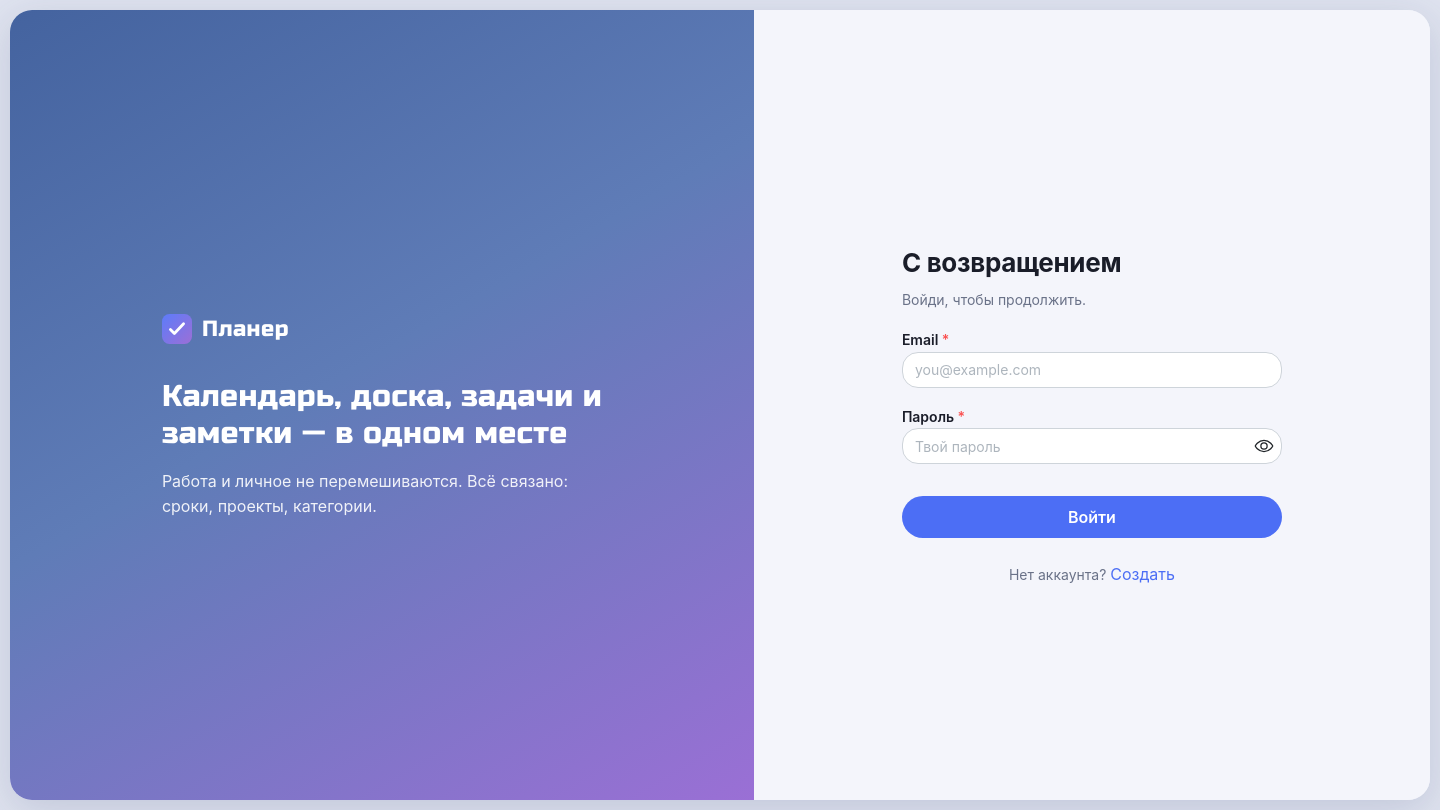
Test case: AuthScreen › сетевая ошибка — общий текст
Type "a@e.com" into the field labelled "Email *" at {"x": 1092, "y": 370}, box x1=902 y1=352 x2=1282 y2=388
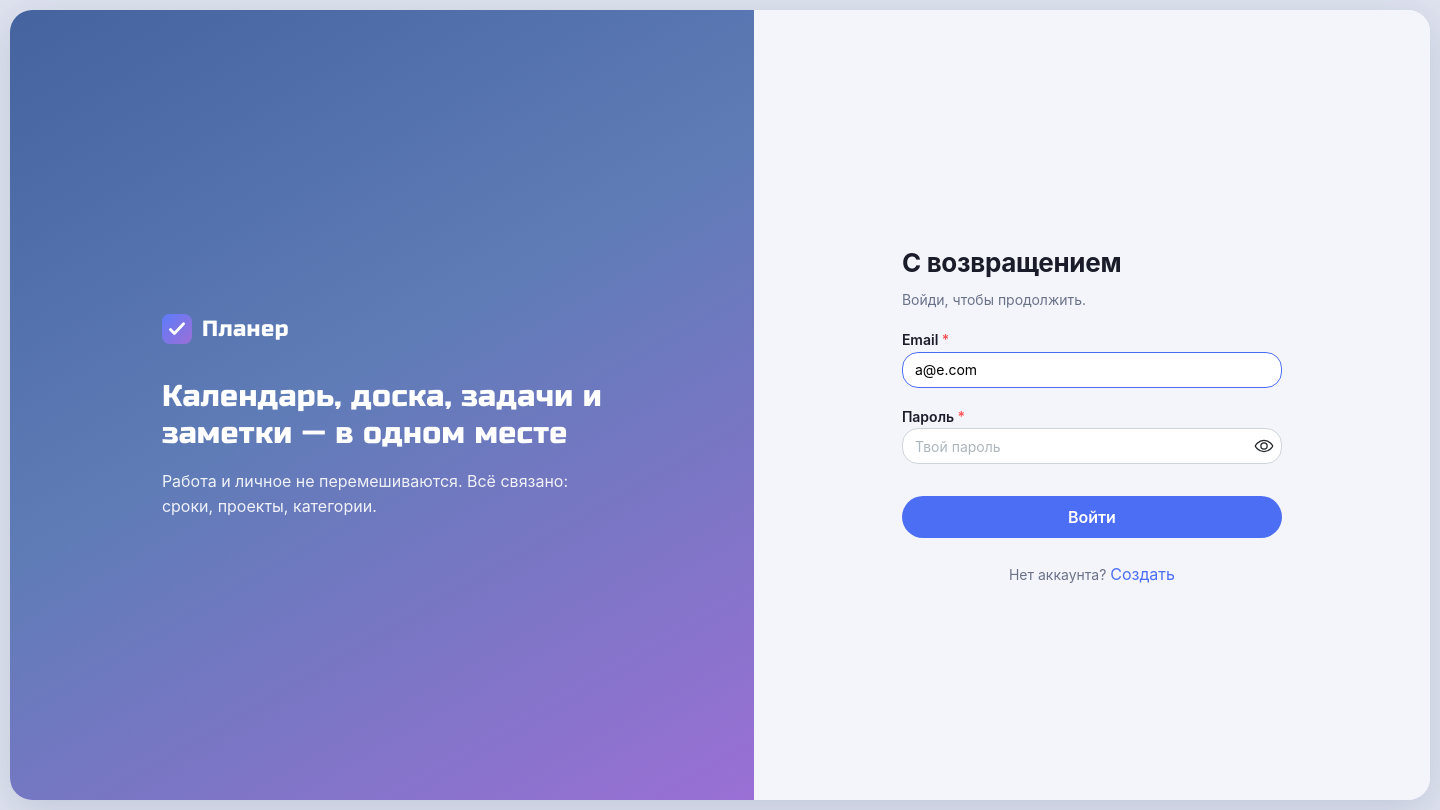
Type "x" into the password field labelled "Пароль *" at {"x": 1092, "y": 446}, box x1=903 y1=429 x2=1281 y2=463
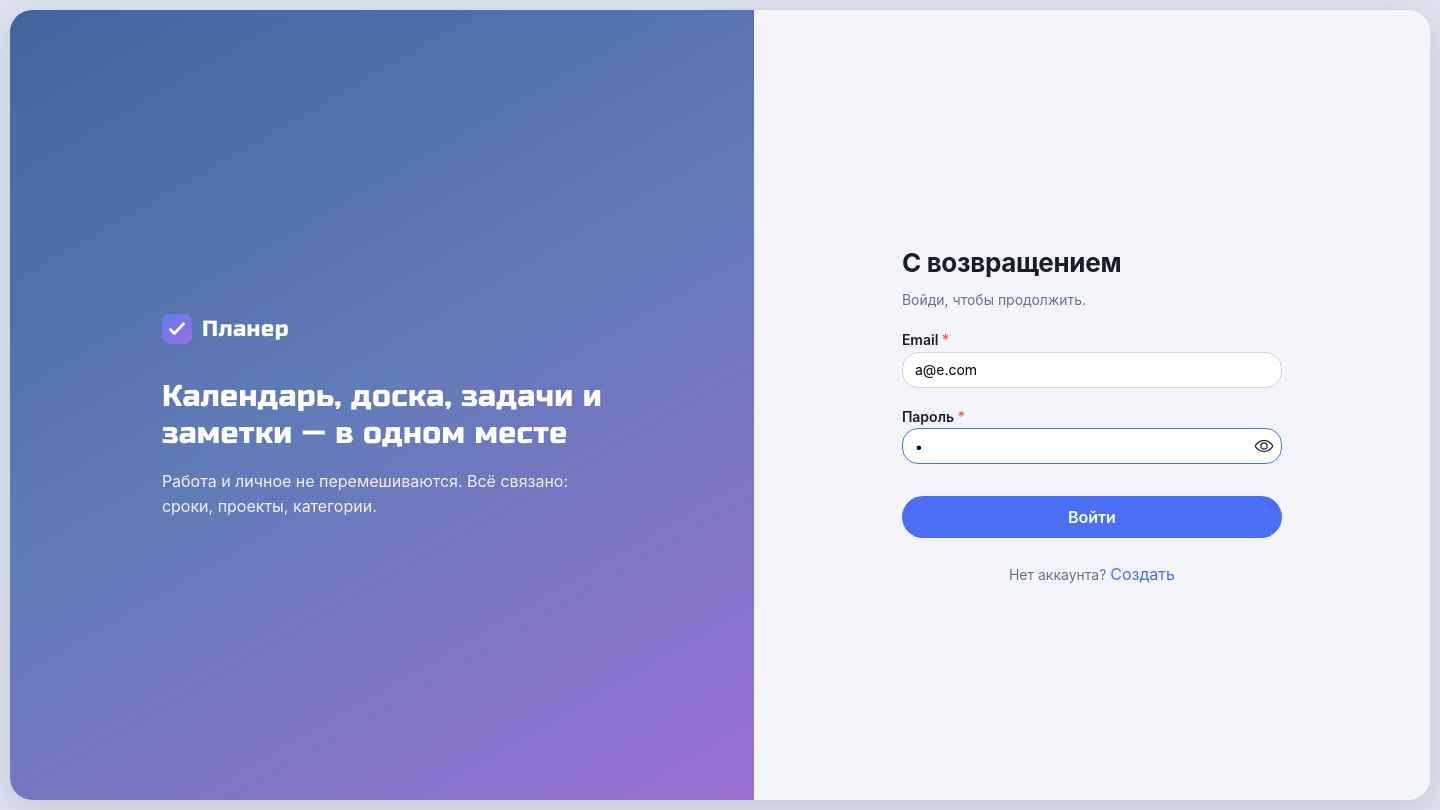
Click the button "Войти" at {"x": 1092, "y": 517}, box x1=902 y1=496 x2=1282 y2=538
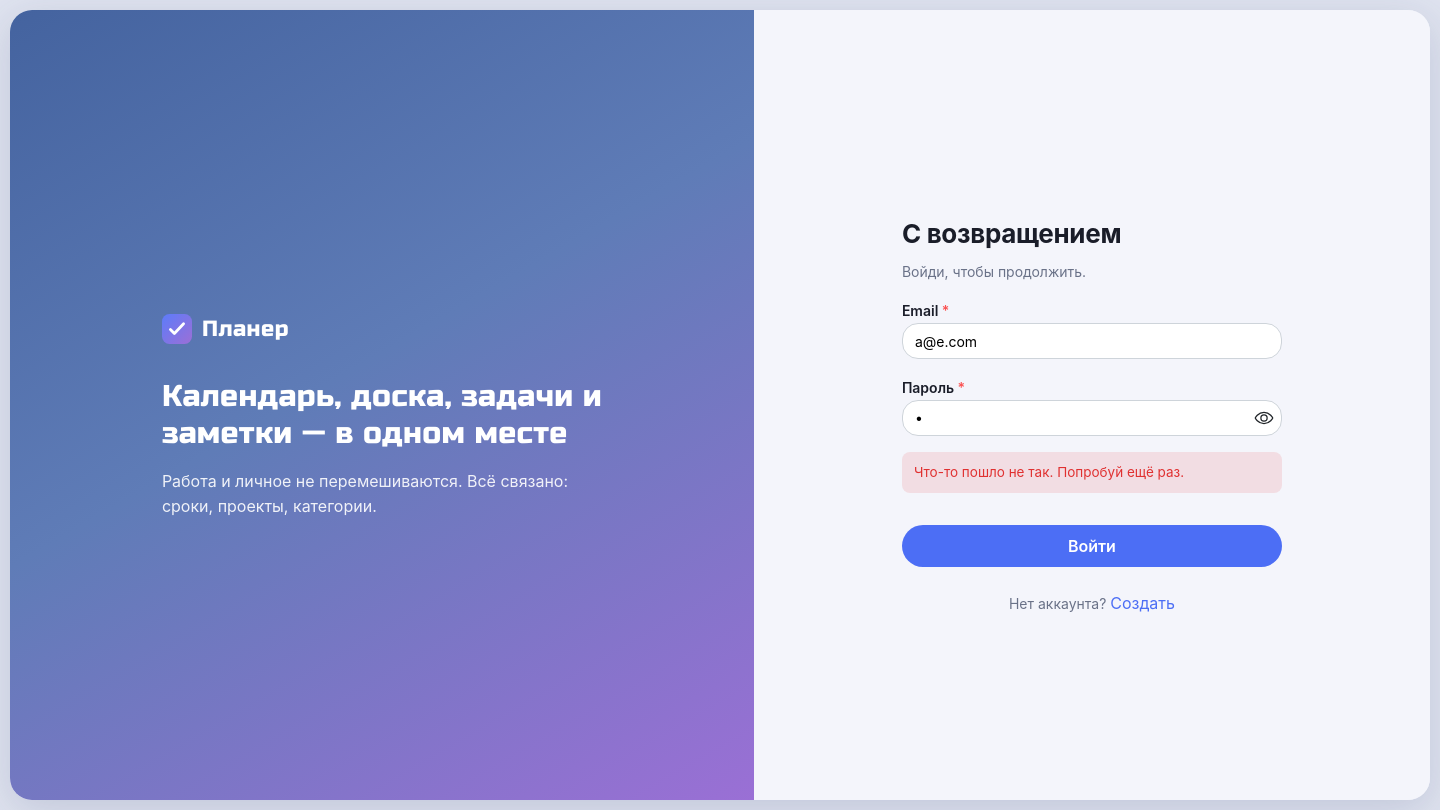
expect the text "Что-то пошло не так. Попробуй ещё раз." is shown: met, box x1=902 y1=452 x2=1282 y2=493
